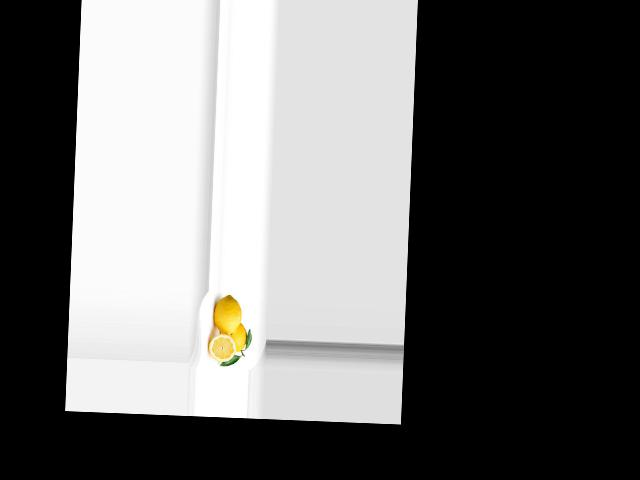lemon: (221, 320, 248, 356)
